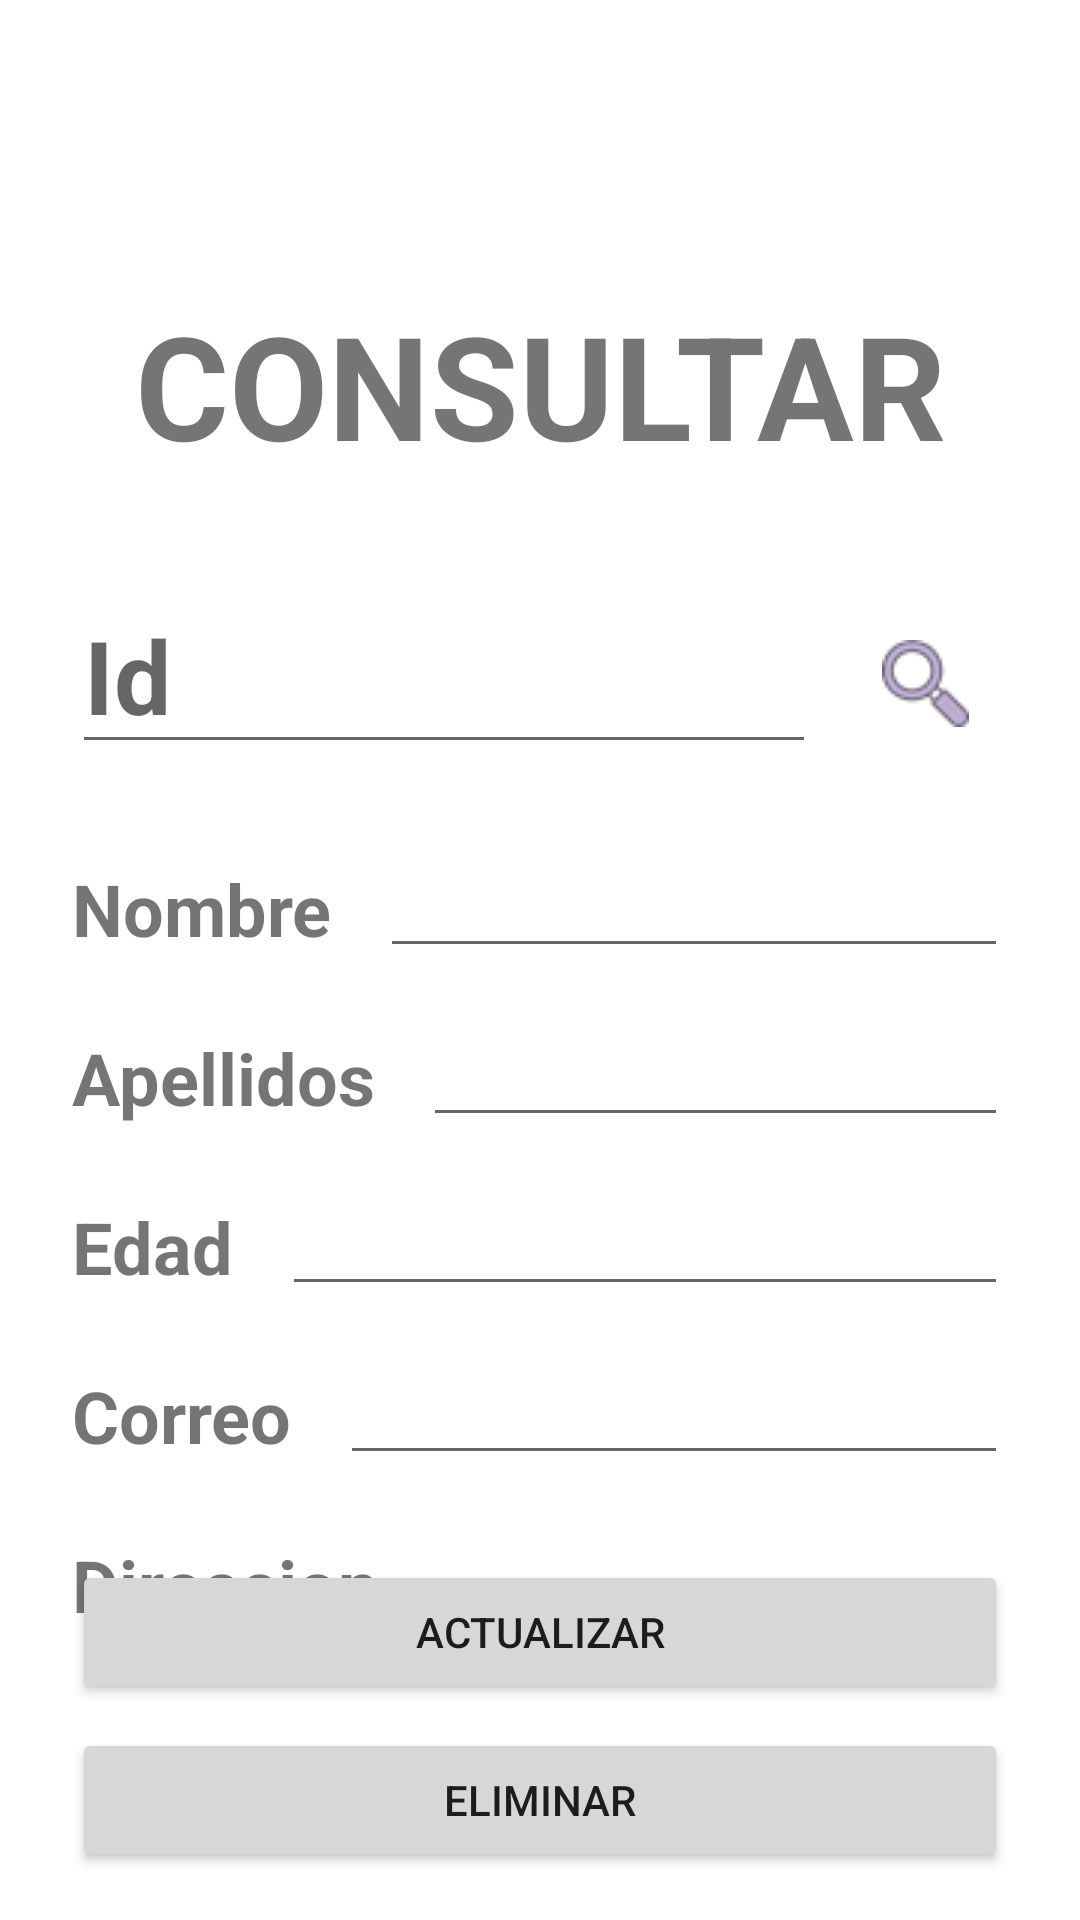

Named icons in this screenshot (1080px×1920px) and their bounding boxes, [x1, y1, x2, y2]:
search: [882, 640, 969, 727]
